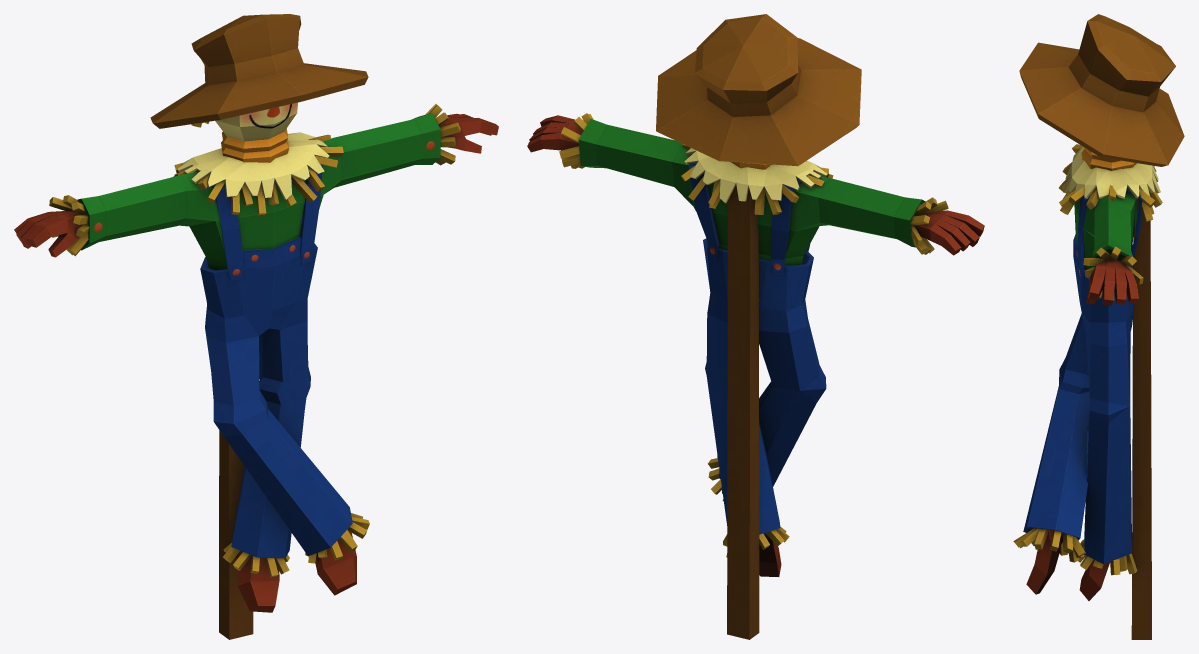
The model's file is Scarecrow-transformed.glb.
3 renders of one model, left to right at view 1: azimuth 30°, elevation 25°; view 2: azimuth 150°, elevation 25°; view 3: azimuth 270°, elevation 25°, orthographic. The views are drawn at different scales.
Parts seen in each view (by area): view 1: Scarecrow_mesh; view 2: Scarecrow_mesh; view 3: Scarecrow_mesh.
Boxes of the visible parts, bbox=[...] form: Scarecrow_mesh: bbox=[14, 14, 498, 639]; Scarecrow_mesh: bbox=[527, 14, 984, 639]; Scarecrow_mesh: bbox=[1013, 14, 1184, 639].
Bounding box in the file's own units: 2.65 × 3.43 × 0.8652.
1 material, 1 textured.
